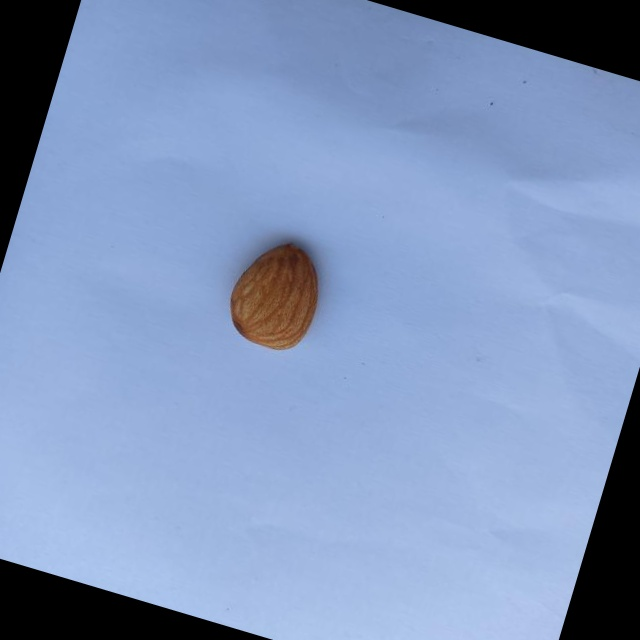grade1: (212, 222, 344, 367)
